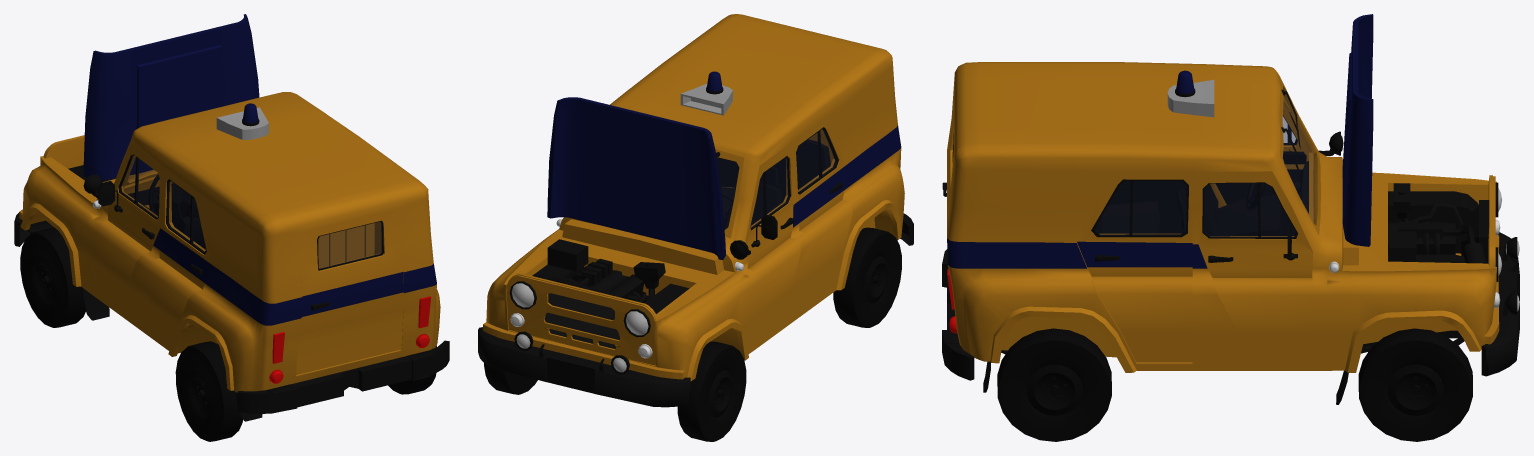
Rendered from UAZ.FBX.
3 renders of one model, left to right at view 1: azimuth 30°, elevation 25°; view 2: azimuth 150°, elevation 25°; view 3: azimuth 270°, elevation 25°, orthographic. The views are drawn at different scales.
Parts seen in each view (by area): view 1: UAZ_body_01, UAZ_capot_01, door_back_01, Door_uaz_01, Door_uaz_type2_01, UAZ_wheel_type1_017, UAZ_wheel_type1_002, UAZ_wheel_type1_018; view 2: UAZ_body_01, UAZ_capot_01, Door_uaz_type2_01, Door_uaz_01, UAZ_wheel_type1_017, UAZ_wheel_type1_002, Box10016, UAZ_wheel_type1_019; view 3: UAZ_body_01, Door_uaz_type2_005, Door_uaz_003, UAZ_wheel_type1_018, UAZ_wheel_type1_019, Box10016, UAZ_capot_01, Door_uaz_01, Door_uaz_type2_01, door_back_01.
Part boxes in pixels (x1=…): UAZ_body_01: x1=14, y1=92, x2=449, y2=421; UAZ_capot_01: x1=83, y1=14, x2=259, y2=180; door_back_01: x1=296, y1=208, x2=403, y2=374; Door_uaz_01: x1=95, y1=143, x2=162, y2=308; Door_uaz_type2_01: x1=147, y1=168, x2=212, y2=345; UAZ_wheel_type1_017: x1=175, y1=341, x2=242, y2=441; UAZ_wheel_type1_002: x1=20, y1=227, x2=85, y2=327; UAZ_wheel_type1_018: x1=388, y1=346, x2=436, y2=394; UAZ_body_01: x1=478, y1=14, x2=913, y2=407; UAZ_capot_01: x1=547, y1=97, x2=725, y2=259; Door_uaz_type2_01: x1=794, y1=116, x2=852, y2=301; Door_uaz_01: x1=745, y1=143, x2=800, y2=338; UAZ_wheel_type1_017: x1=833, y1=227, x2=901, y2=327; UAZ_wheel_type1_002: x1=677, y1=341, x2=746, y2=441; Box10016: x1=532, y1=239, x2=689, y2=313; UAZ_wheel_type1_019: x1=484, y1=363, x2=537, y2=394; UAZ_body_01: x1=942, y1=62, x2=1519, y2=404; Door_uaz_type2_005: x1=1077, y1=172, x2=1192, y2=362; Door_uaz_003: x1=1198, y1=171, x2=1312, y2=362; UAZ_wheel_type1_018: x1=997, y1=328, x2=1111, y2=441; UAZ_wheel_type1_019: x1=1358, y1=328, x2=1472, y2=441; Box10016: x1=1001, y1=183, x2=1498, y2=354; UAZ_capot_01: x1=1342, y1=14, x2=1373, y2=246; Door_uaz_01: x1=1212, y1=103, x2=1308, y2=235; Door_uaz_type2_01: x1=1108, y1=181, x2=1186, y2=233; door_back_01: x1=942, y1=97, x2=954, y2=221.
Size of the model in its own units: 500 by 615 by 989.
